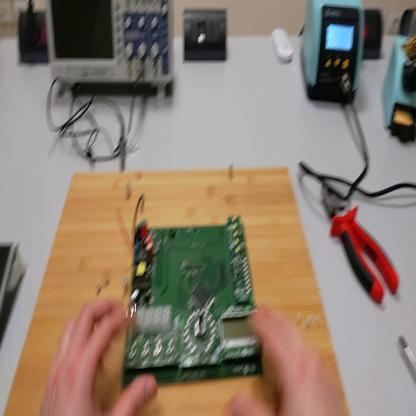hand: (44, 294, 160, 415), (224, 303, 345, 414)
low voltage board: (122, 187, 271, 380)
oscilloscope: (45, 1, 176, 106)
oscilloscope probe tip: (122, 121, 128, 175)
pliers: (322, 187, 401, 307)
screwdriver-: (400, 333, 416, 370)
socket: (18, 10, 51, 65), (364, 10, 383, 62), (400, 9, 416, 36)
welder base: (385, 12, 416, 146)
welder station: (302, 3, 367, 104)
working area: (5, 167, 349, 414)
